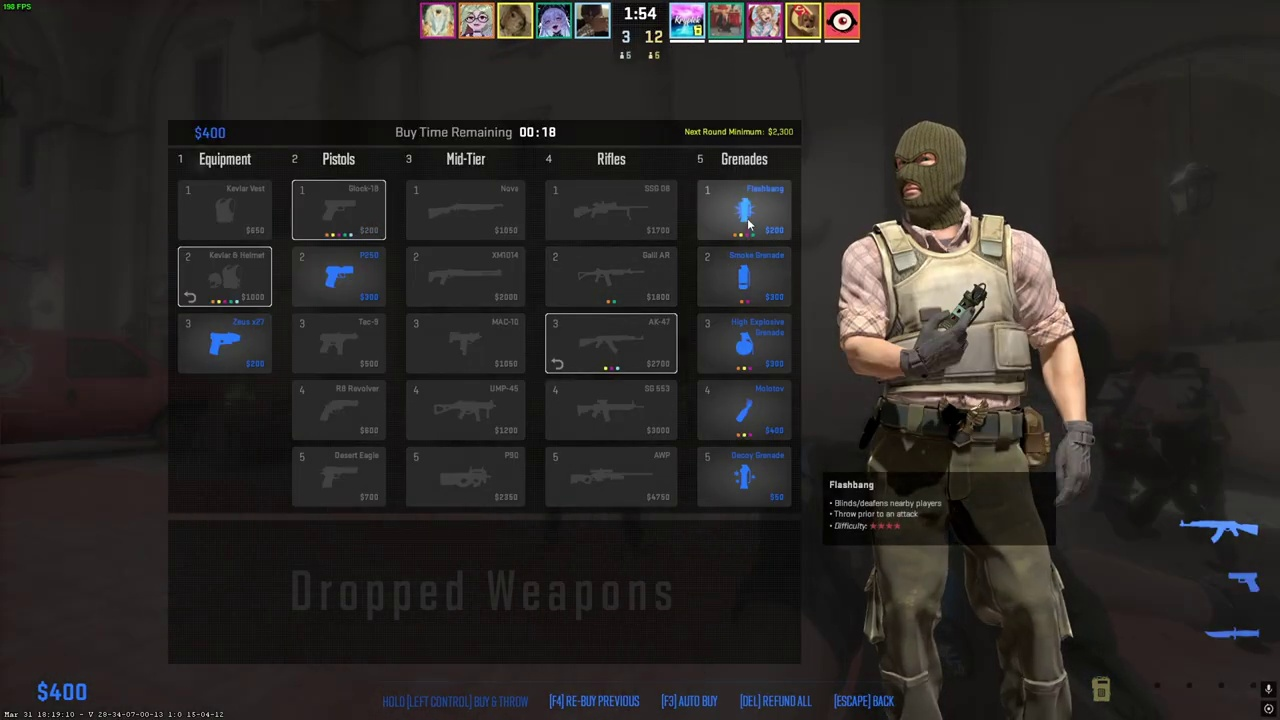Terrorist: (847, 121, 1077, 720)
